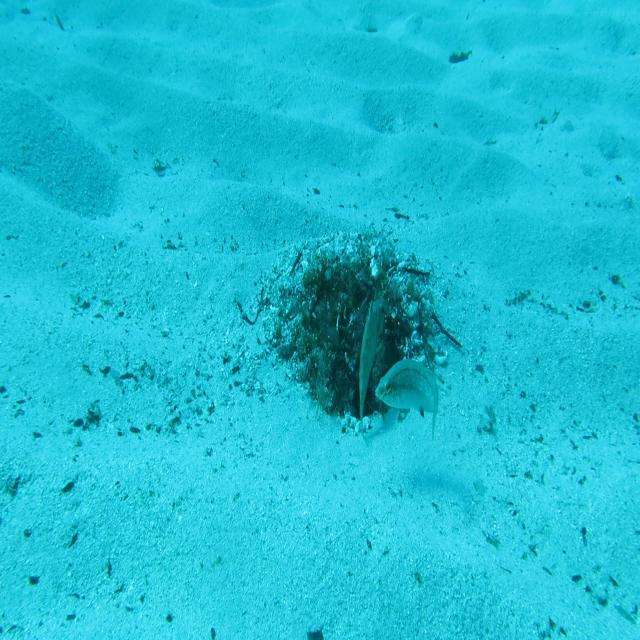FAN: (358, 292, 388, 451)
core_nest: (326, 272, 378, 308)
female: (375, 357, 441, 443)
nest: (252, 218, 449, 449)
vegetation: (447, 47, 472, 68)
